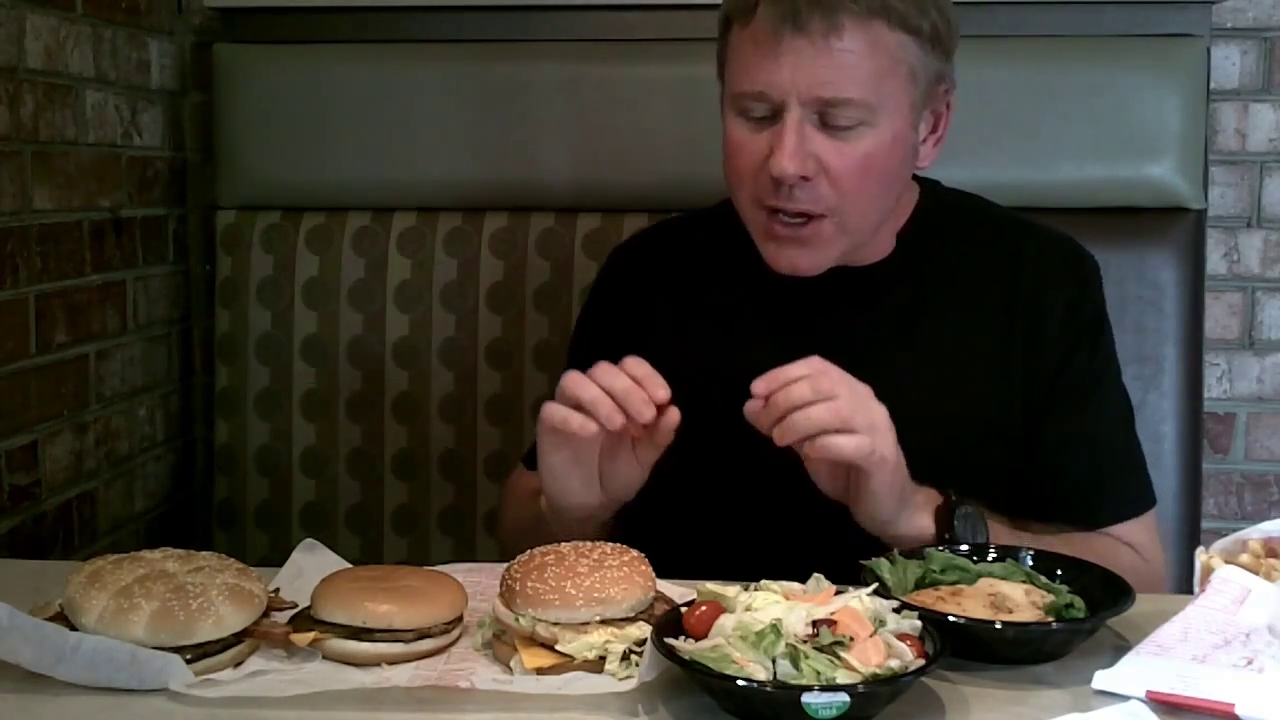person: (497, 1, 1168, 594)
